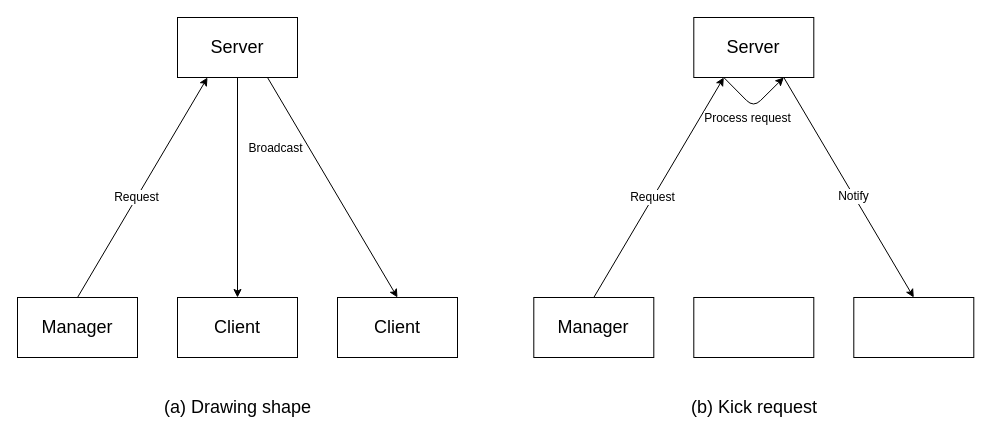
This 992x436 diagram has some shape labels left out. The shapes that lost their labels are listed below. From the top down, each one's box as (x1, y1, x2, y2) in pixels, then its label:
(693, 296, 814, 358): Client 1
(853, 296, 974, 358): Client 2
